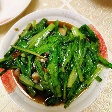youmaicai: (3, 19, 112, 110)
